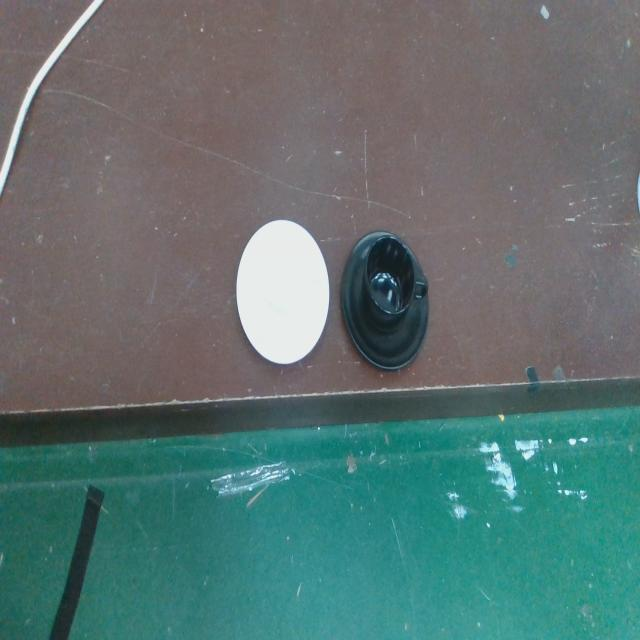black: (337, 227, 432, 376)
white: (234, 215, 332, 371)
